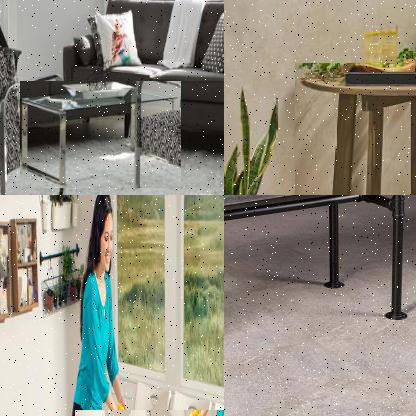table: (224, 195, 415, 379), (19, 81, 181, 189), (293, 63, 415, 194)
